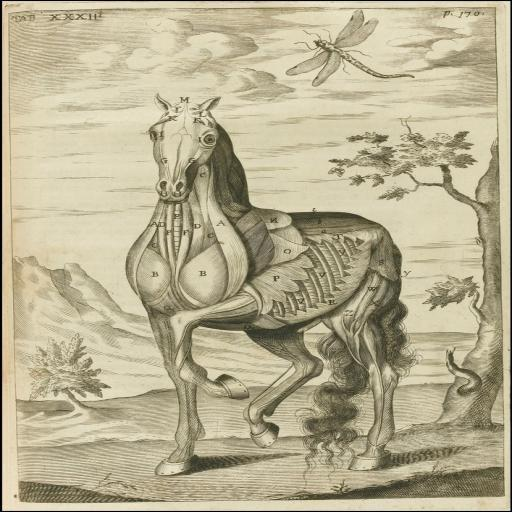horse: (122, 90, 426, 472)
